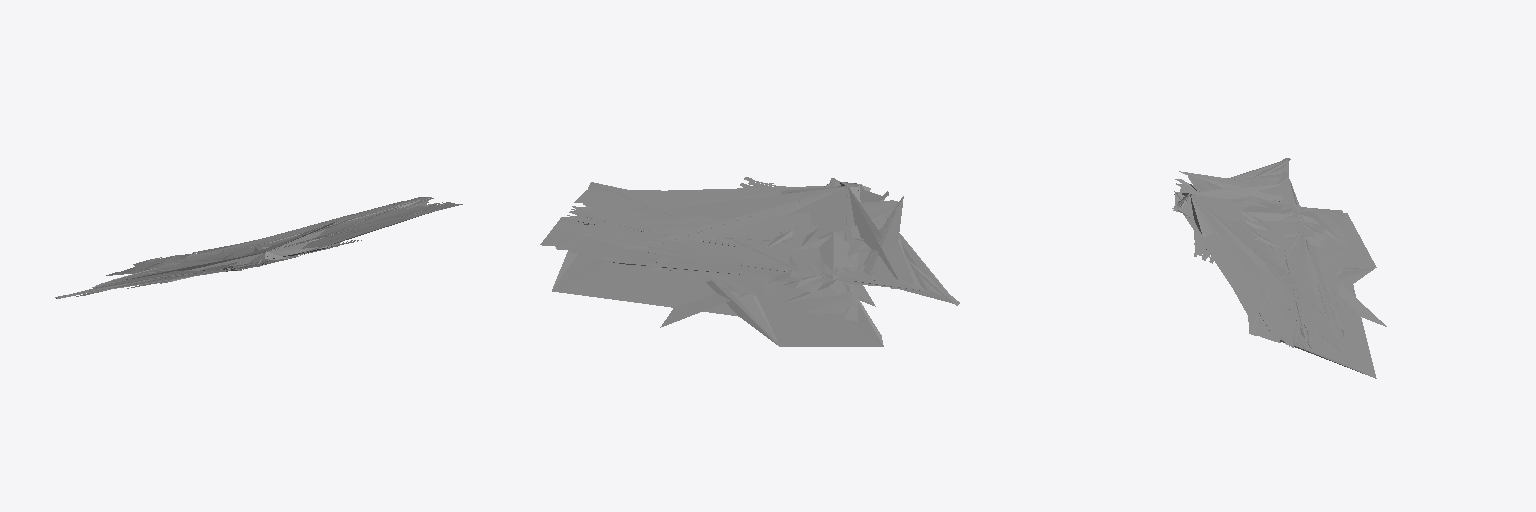
The model's file is secblock.obj.
The picture shows the model from 3 angles: view 1: azimuth 30°, elevation 25°; view 2: azimuth 150°, elevation 25°; view 3: azimuth 270°, elevation 25°; orthographic projection.
Visible parts, largest first — view 1: f1_o0_p2_v6; view 2: f1_o0_p2_v6; view 3: f1_o0_p2_v6.
Boxes of the visible parts, <box> form: f1_o0_p2_v6: <box>55,197,462,298</box>; f1_o0_p2_v6: <box>540,177,959,346</box>; f1_o0_p2_v6: <box>1172,158,1386,378</box>.
Bounding box in the file's own units: 84.8 × 18.89 × 40.77.